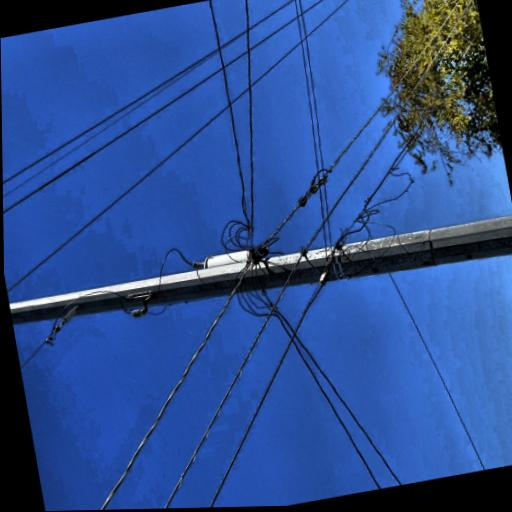pole: (13, 22, 165, 512)
transformer: (105, 350, 144, 418)
